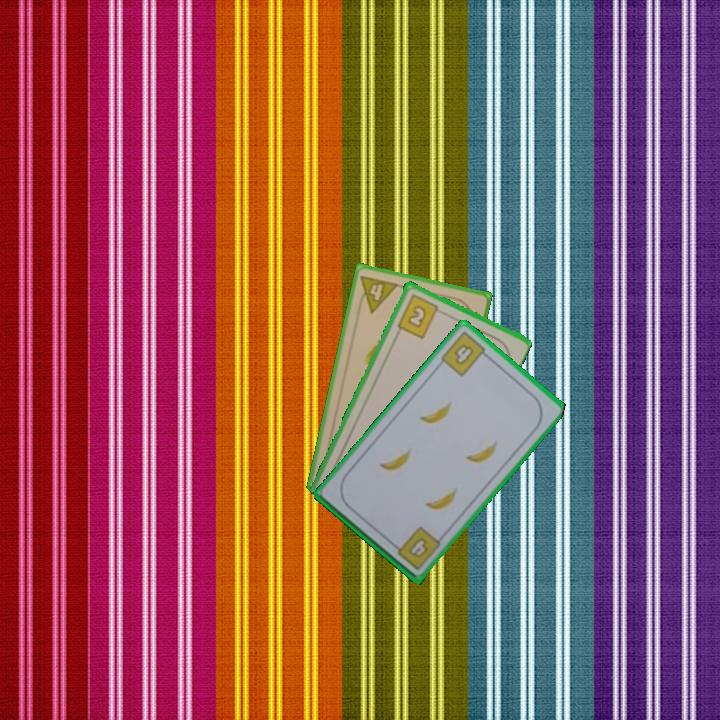2b: (394, 290, 445, 341)
4b: (437, 328, 493, 379), (389, 522, 444, 573)
4p: (354, 271, 401, 316)
